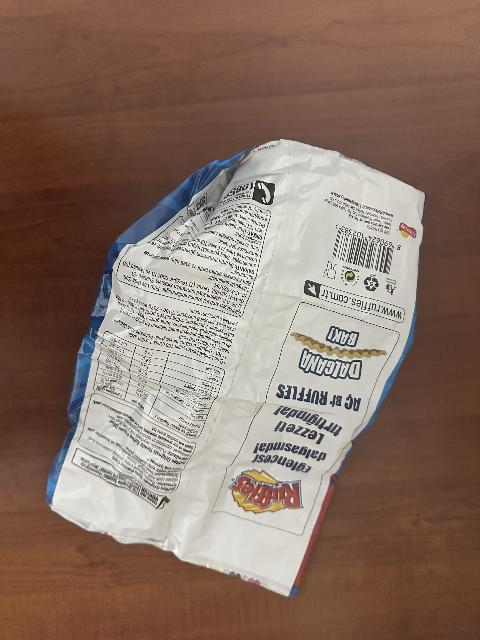Plastik: (33, 162, 446, 583)
